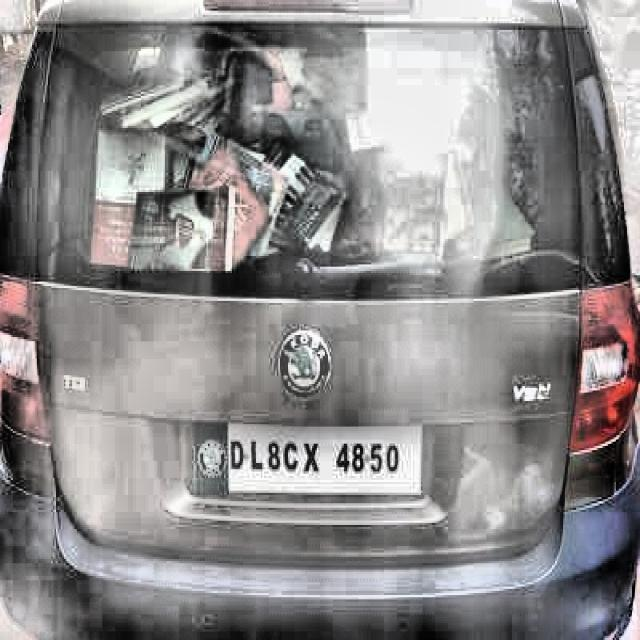license_plate: (195, 420, 418, 500)
